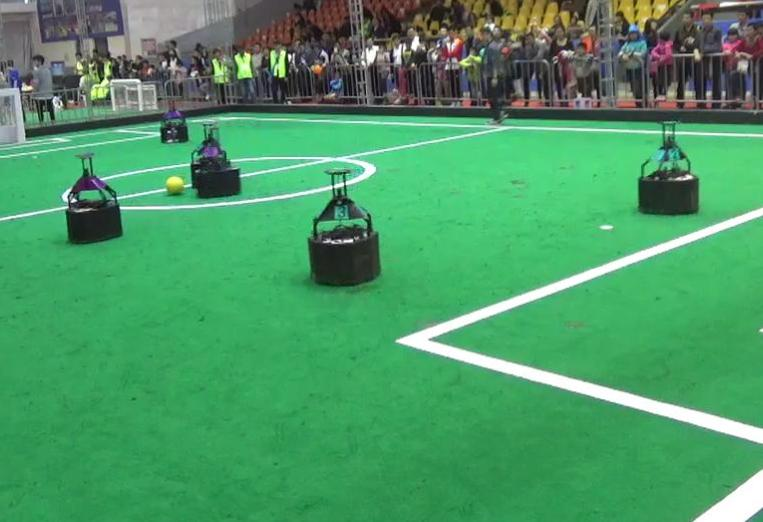robot: (306, 165, 387, 288), (633, 119, 705, 219), (60, 149, 127, 245), (189, 120, 243, 200)
